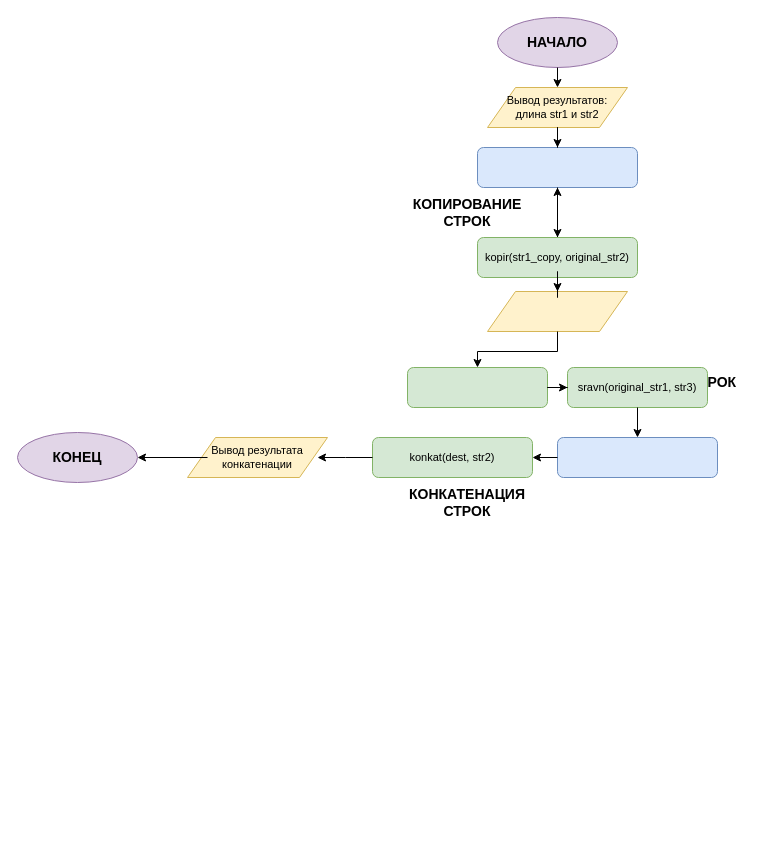
This 765x855 diagram has some shape labels left out. Each missing label, with the centre of its shape:
sravn(original_str1, original_str2): (x=477, y=387)
Вывод результата копирования: (x=557, y=311)
Инициализация dest[100] = "qwerty": (x=637, y=457)
Сохранение оригиналов original_str1, original_str2: (x=557, y=167)
